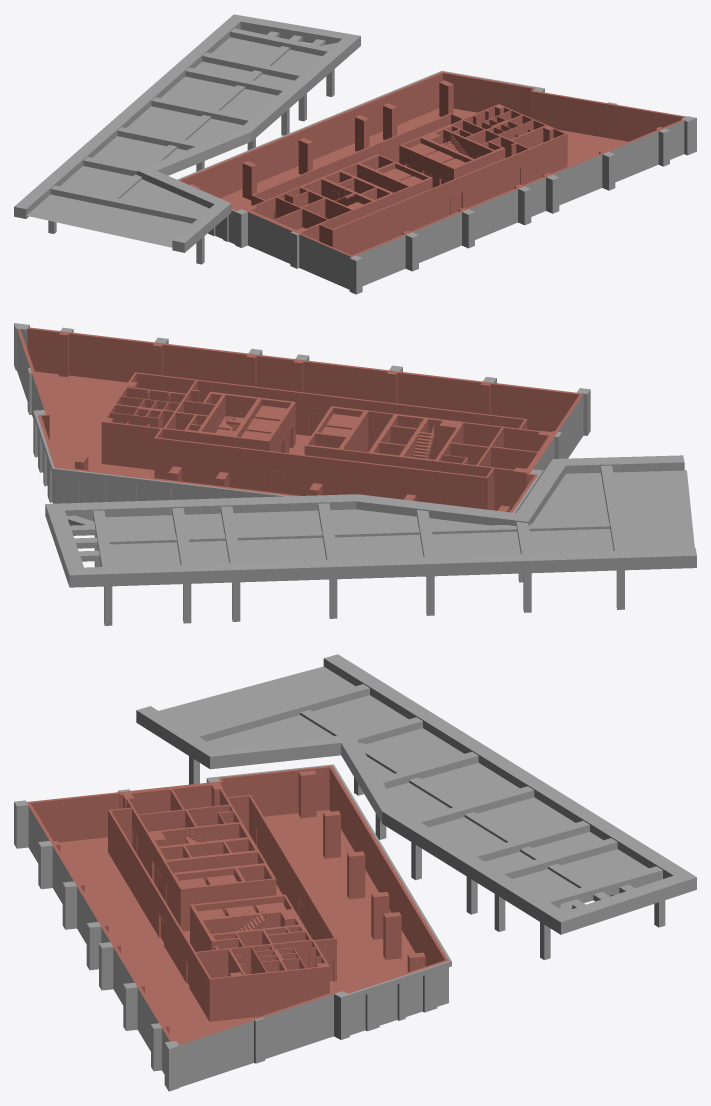
File: JLL_Ruya_Region3DModels_Riyadh_Derived_HeroBuildings_Building 305_Floors_KSA_04_04105_B29_Floor_T1_1.fbx
3 views of the same model, one above another, from view 1: azimuth 30°, elevation 25°; view 2: azimuth 150°, elevation 25°; view 3: azimuth 270°, elevation 25° (orthographic). The views are drawn at different scales.
Visible parts, largest first — view 1: KSA_04_04105_B29_Floor_T1_1; view 2: KSA_04_04105_B29_Floor_T1_1; view 3: KSA_04_04105_B29_Floor_T1_1.
Boxes of the visible parts, bbox=[...] form: KSA_04_04105_B29_Floor_T1_1: bbox=[14, 14, 696, 294]; KSA_04_04105_B29_Floor_T1_1: bbox=[14, 323, 696, 625]; KSA_04_04105_B29_Floor_T1_1: bbox=[14, 654, 696, 1091].
Size of what is drawn, in the model's own units: 7813 by 560 by 5945.
